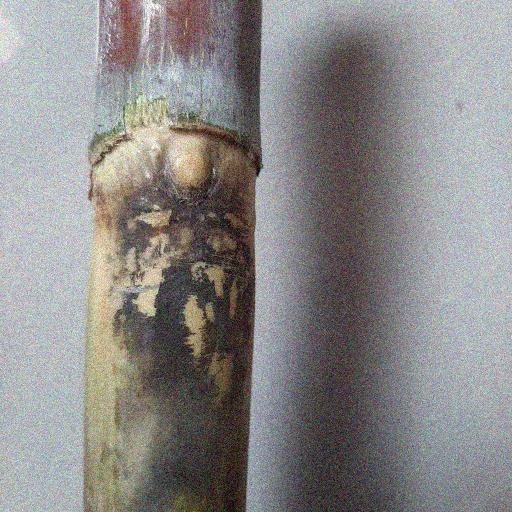Bud: (169, 142, 214, 196)
